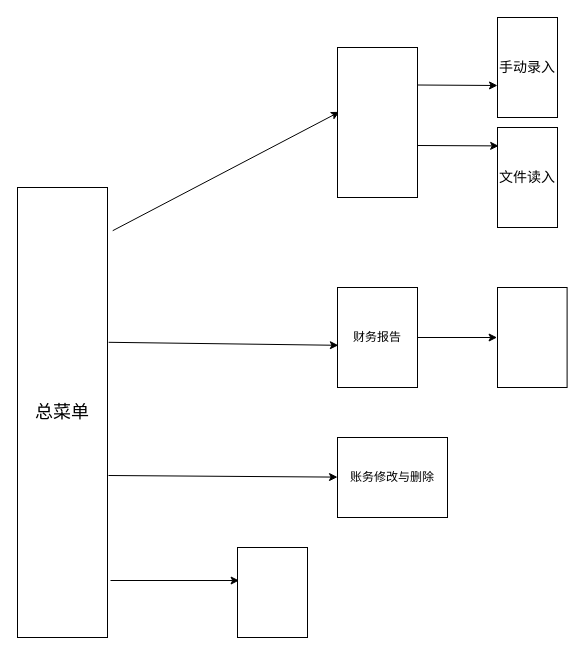
Some shapes in this 585 by 655 pixel diagram are drawn without their labels. The shapes that lost their labels are listed below. From the top down, each one's centre as x and y in pixels, then its label:
point 377,122: 账务录入
point 531,337: 账务排序
point 272,592: 数据展示
